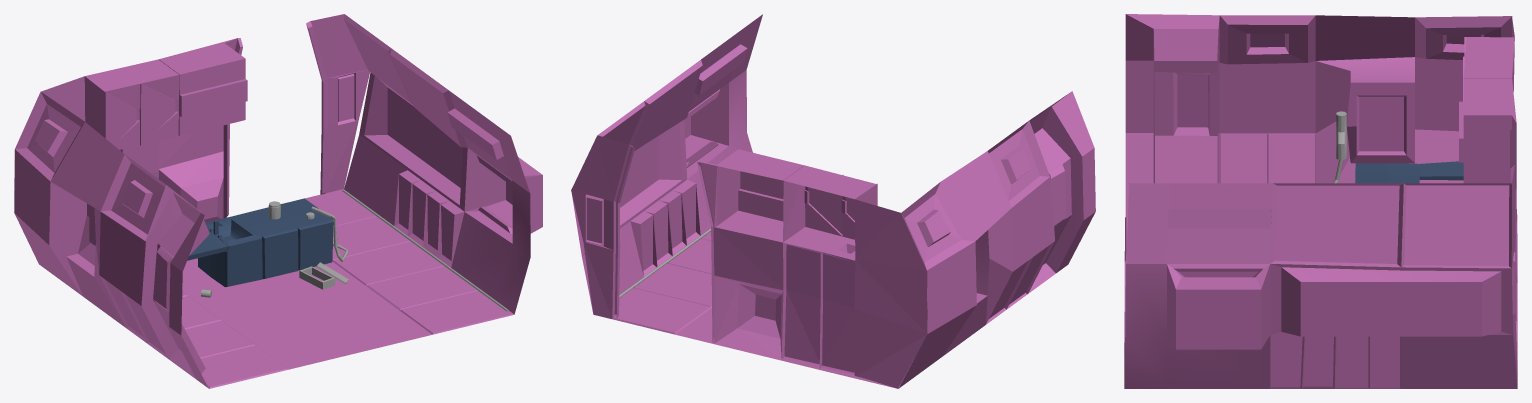
Rendered from Set1.fbx.
The picture shows the model from 3 angles, left to right: view 1: azimuth 30°, elevation 25°; view 2: azimuth 150°, elevation 25°; view 3: azimuth 270°, elevation 25°; orthographic projection. The views are drawn at different scales.
Visible parts, largest first — view 1: RightWall, Floor, Left_Wall, BackWall, table, cord, tub; view 2: BackWall, Left_Wall, RightWall, Floor; view 3: RightWall, Left_Wall, BackWall, table, Floor, cord3.
Boxes of the visible parts, x1=… form: RightWall: x1=343, y1=14, x2=542, y2=314; Floor: x1=181, y1=189, x2=513, y2=388; Left_Wall: x1=14, y1=92, x2=209, y2=388; BackWall: x1=14, y1=14, x2=369, y2=222; table: x1=187, y1=198, x2=333, y2=287; cord: x1=342, y1=189, x2=508, y2=311; tub: x1=299, y1=266, x2=335, y2=289; BackWall: x1=571, y1=135, x2=927, y2=388; Left_Wall: x1=898, y1=91, x2=1095, y2=388; RightWall: x1=571, y1=14, x2=762, y2=311; Floor: x1=612, y1=231, x2=912, y2=388; RightWall: x1=1124, y1=183, x2=1517, y2=388; Left_Wall: x1=1125, y1=14, x2=1517, y2=216; BackWall: x1=1459, y1=17, x2=1517, y2=386; table: x1=1355, y1=161, x2=1463, y2=183; Floor: x1=1124, y1=217, x2=1517, y2=382; cord3: x1=1336, y1=111, x2=1346, y2=159.
Bounding box in the file's own units: 18.75 × 8.25 × 14.23.
